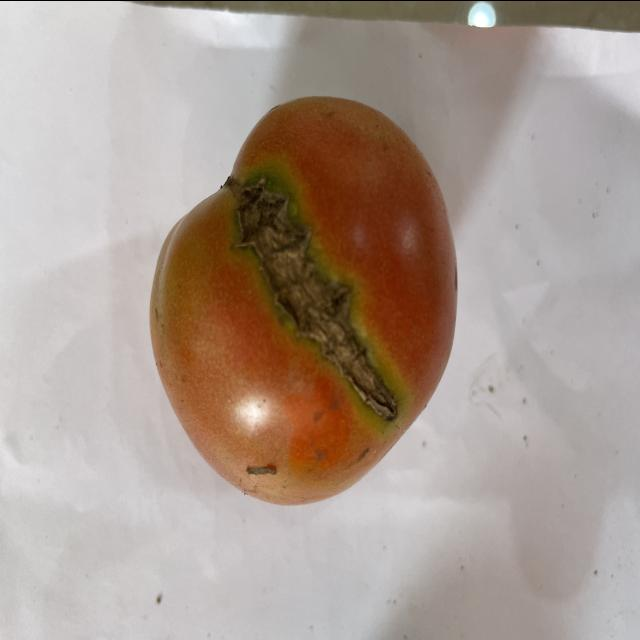tomato_cracking: (224, 162, 392, 445)
